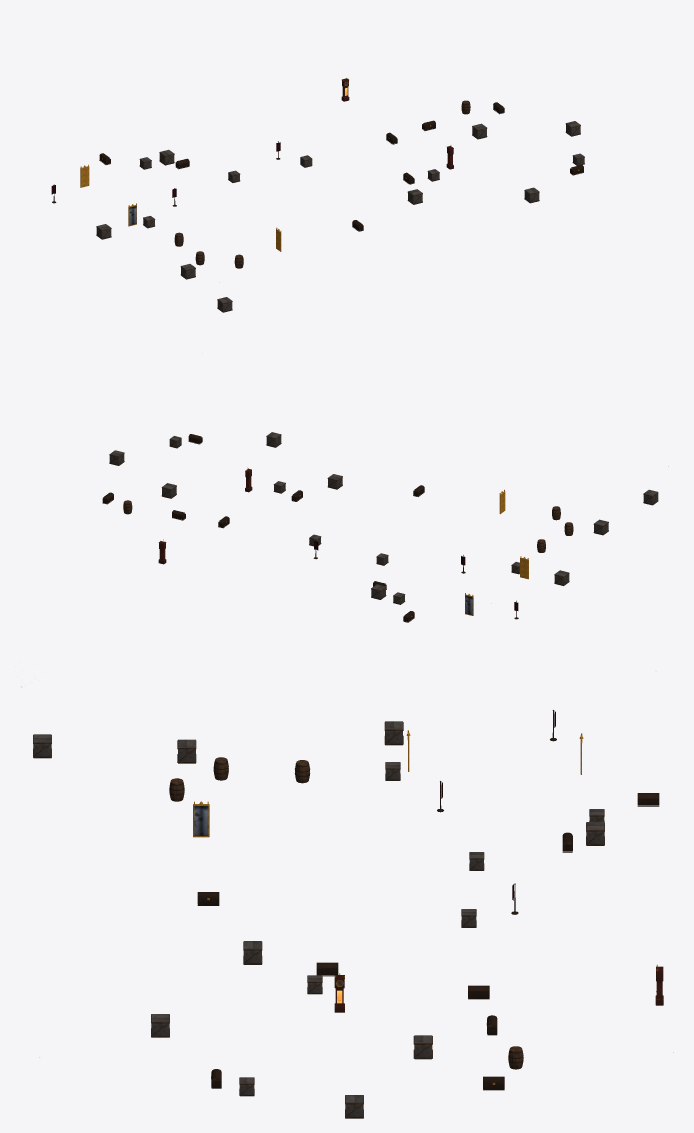
File: manor_furn_at.glb
The picture shows the model from 3 angles, top to bottom: view 1: azimuth 30°, elevation 25°; view 2: azimuth 150°, elevation 25°; view 3: azimuth 270°, elevation 25°; orthographic projection. The views are drawn at different scales.
Parts seen in each view (by area): view 1: manor_furn_at; view 2: manor_furn_at; view 3: manor_furn_at.
Boxes of the visible parts, box(x1,y1,x2,y2) form: manor_furn_at: box(51, 78, 584, 312); manor_furn_at: box(102, 353, 668, 622); manor_furn_at: box(21, 686, 673, 1118).
Size of the model in its own units: 56.2 by 5.35 by 40.2.
14 materials, 14 textured.
